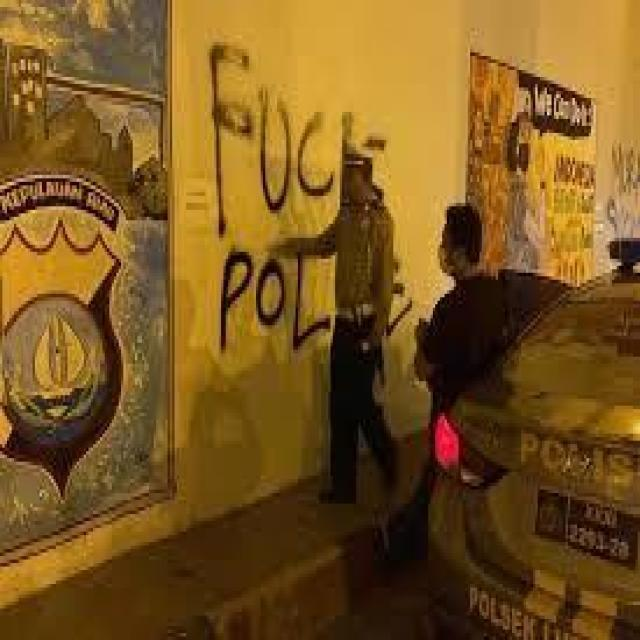nonspitting: (210, 42, 412, 354)
